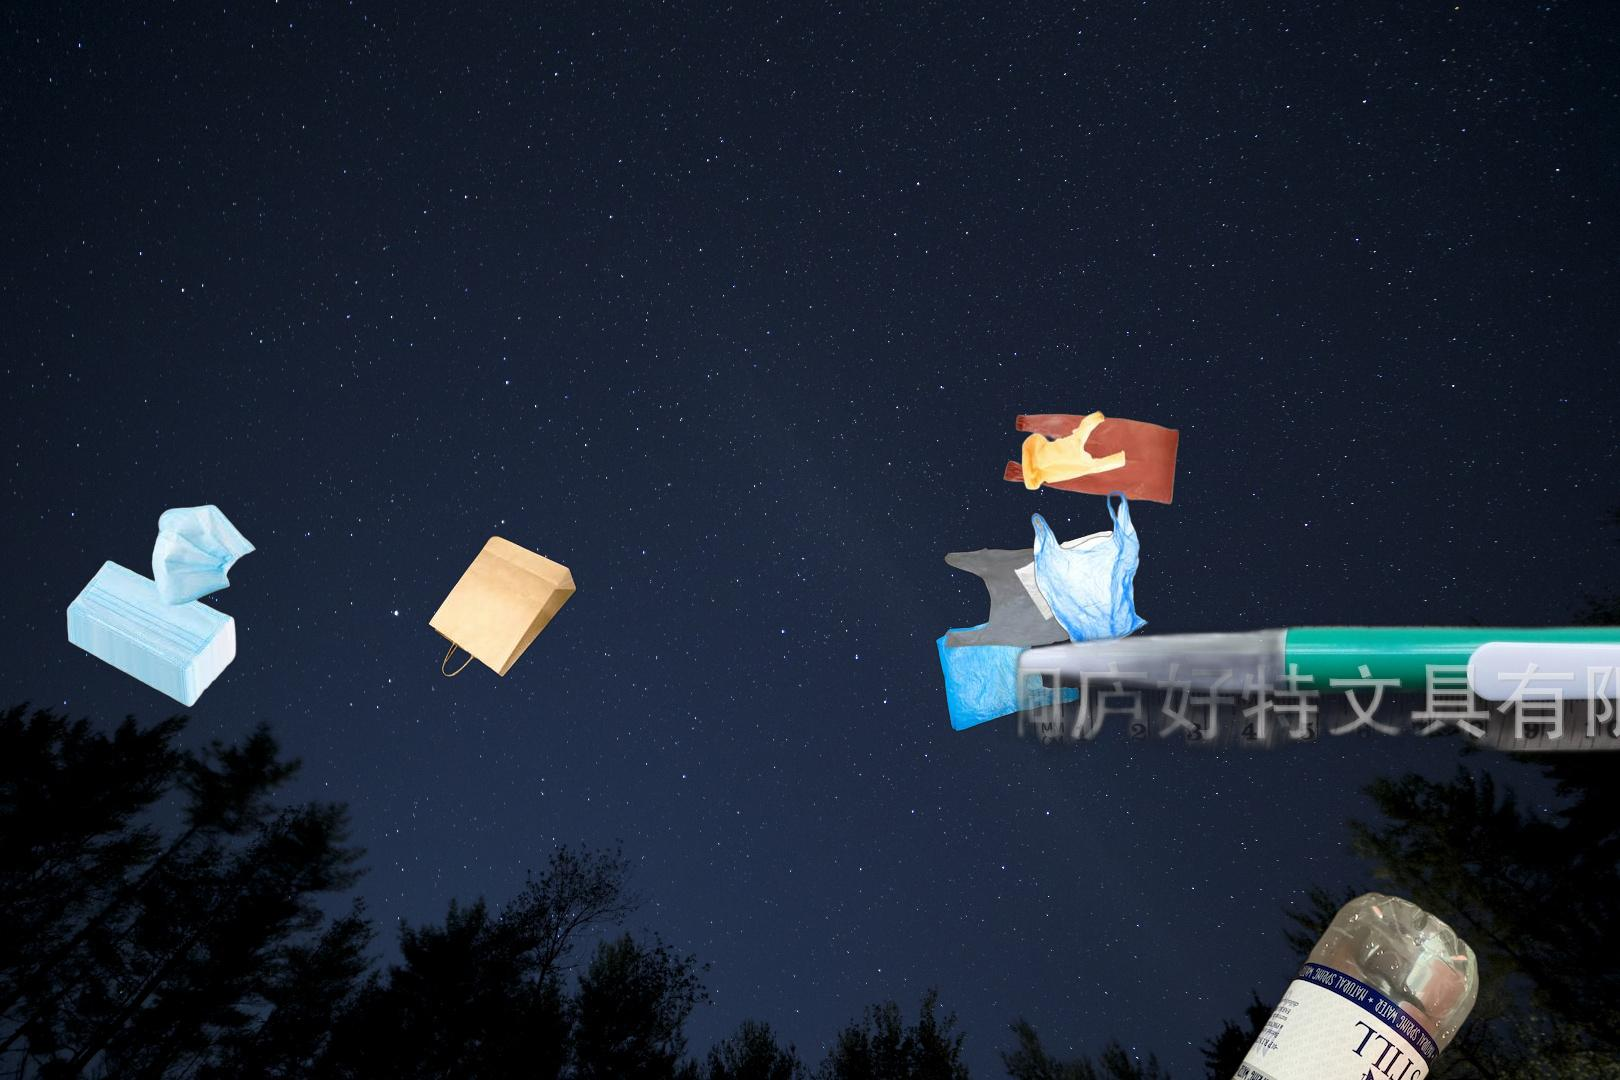metal-cans: (856, 1066, 1132, 1080)
paper-bag: (425, 533, 580, 680)
penholder: (985, 233, 1620, 773)
plastic-bag: (986, 406, 1182, 648), (934, 527, 1125, 733)
plastic-bottles: (1127, 886, 1484, 1080)
trash: (64, 501, 259, 710)
